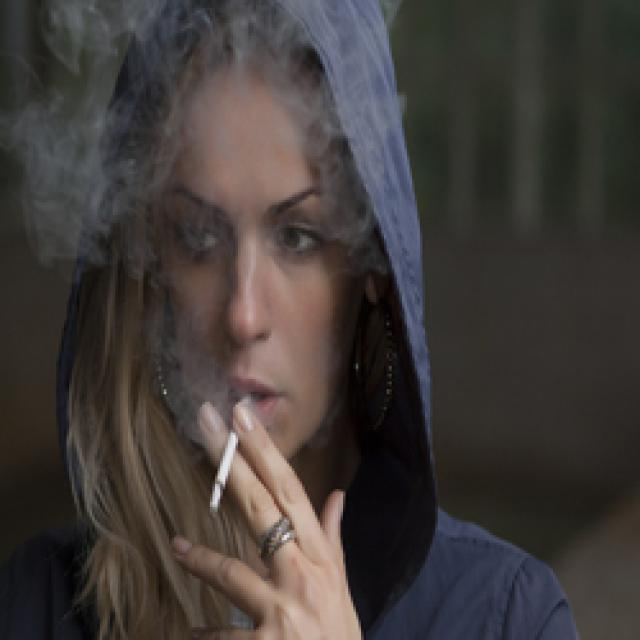Smooking: (192, 397, 260, 528)
